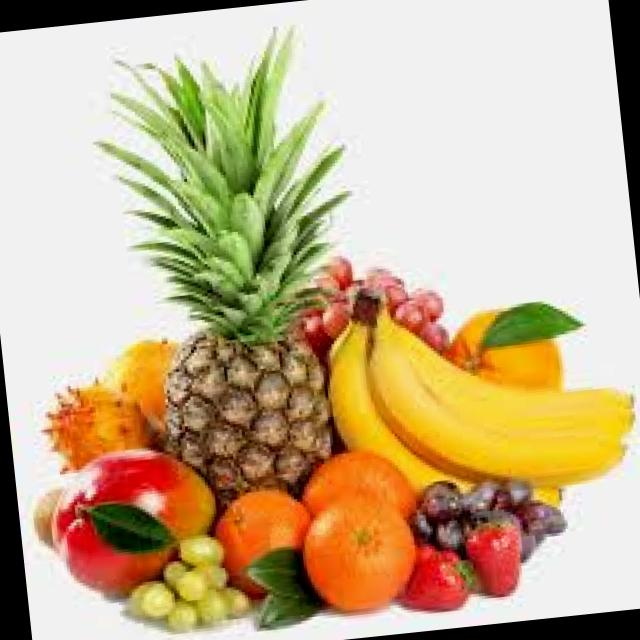organic: (88, 8, 374, 516), (3, 333, 394, 640), (357, 242, 640, 610)
